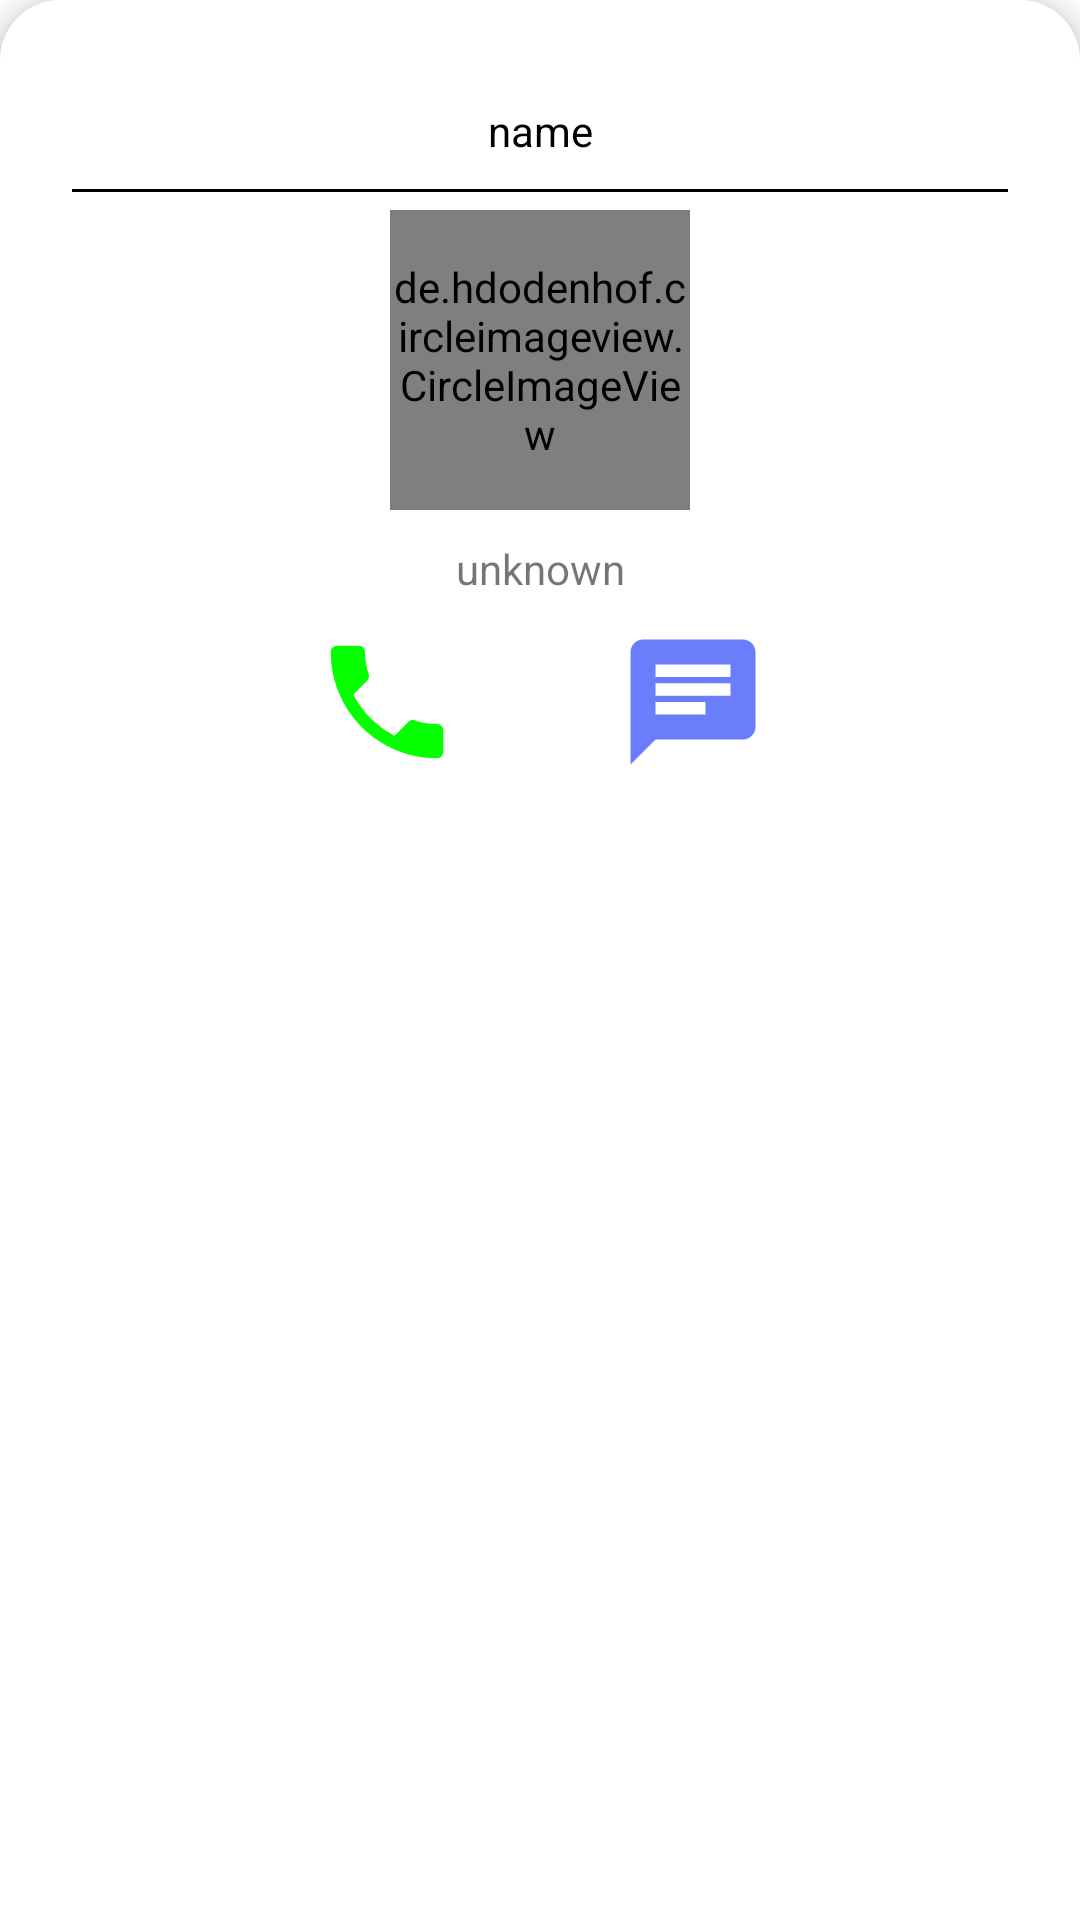

Icon click points for this 1080×1920 phone screenshot, format (x=x, y=y):
chat: (x=693, y=701)
phone: (x=387, y=702)
